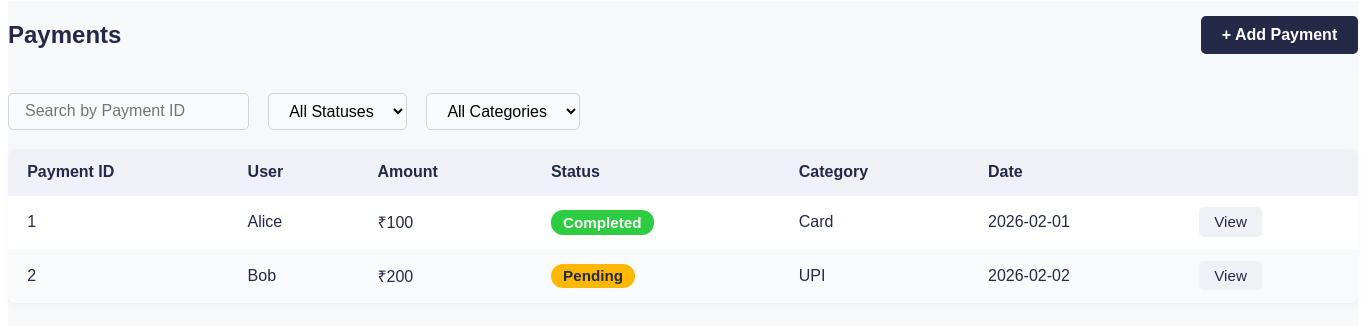
Test: PaymentList.vue › filters payments by status
Select "Completed" in the 1st dropdown at (338, 111), box x1=268 y1=93 x2=407 y2=130
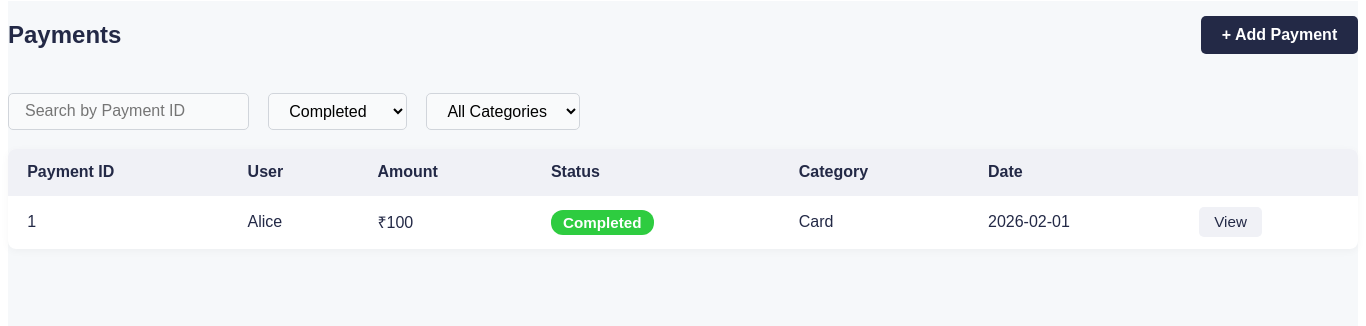
Expected: the row "1 Alice ₹100 Completed Card 2026-02-01 View" is shown, x1=8 y1=196 x2=1358 y2=249
Result: the text "Pending" is gone
